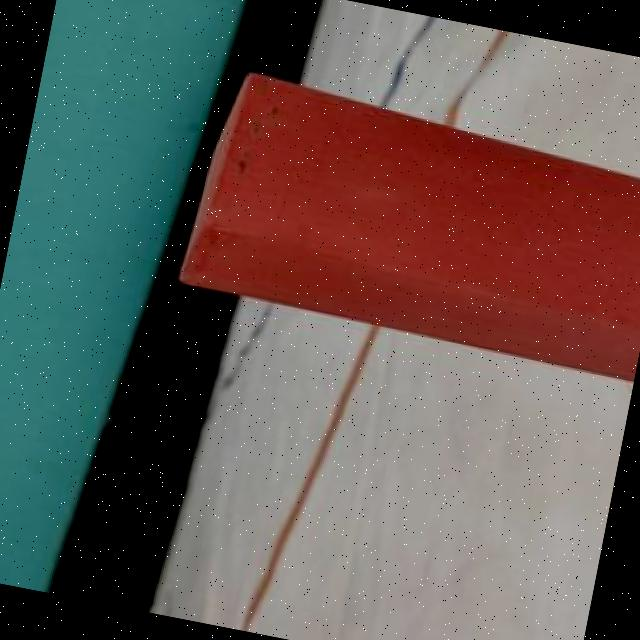redbox: (170, 62, 640, 380)
